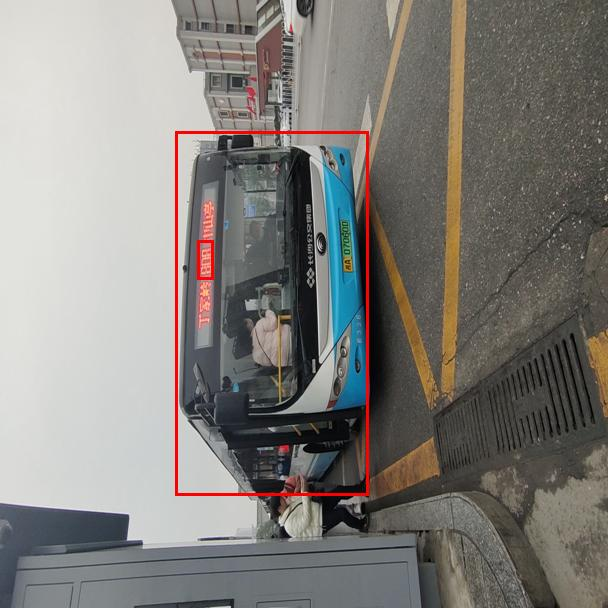bus: (175, 131, 368, 495)
screen: (197, 240, 213, 279)
